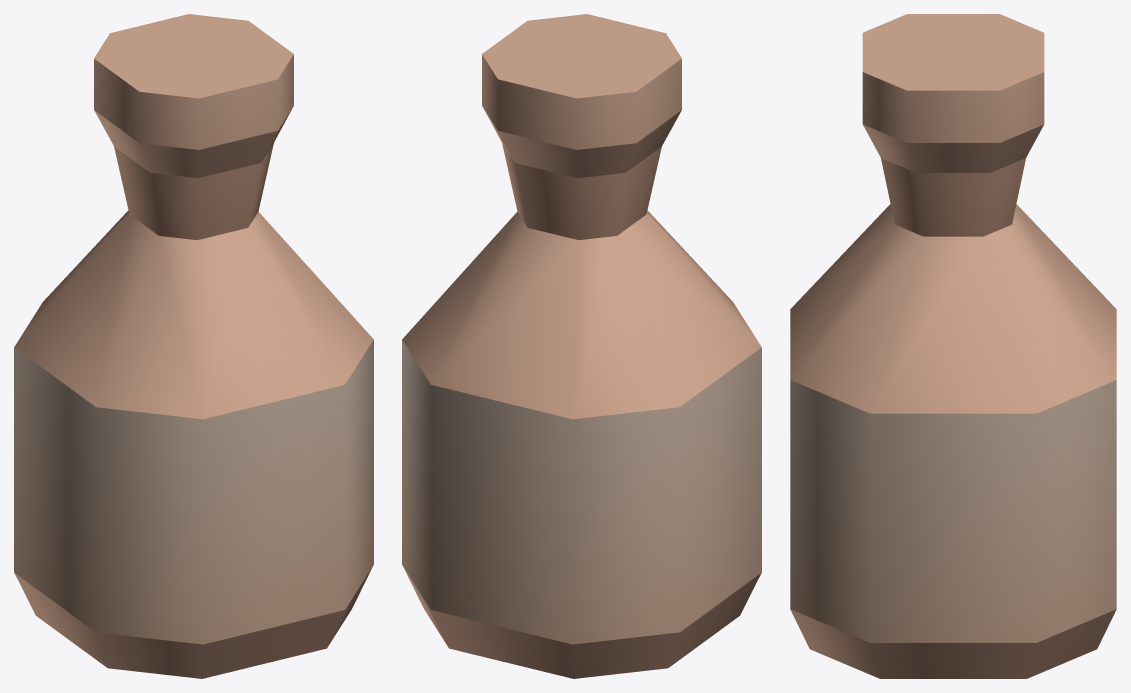
File: bottle-large.glb
3 views of the same model, side by side, from view 1: azimuth 30°, elevation 25°; view 2: azimuth 150°, elevation 25°; view 3: azimuth 270°, elevation 25° (orthographic).
Parts seen in each view (by area): view 1: bottle-large; view 2: bottle-large; view 3: bottle-large.
Boxes of the visible parts, x1,y1,x2,y2 form: bottle-large: (14,14,373,678); bottle-large: (402,14,761,678); bottle-large: (790,14,1116,678).
Bounding box in the file's own units: 0.4658 × 0.8905 × 0.4658.
